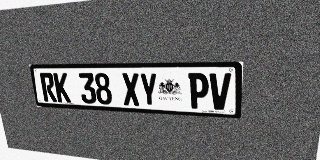3: (78, 73, 97, 104)
8: (94, 73, 112, 105)
K: (53, 73, 71, 103)
P: (188, 73, 209, 109)
R: (39, 73, 57, 102)
V: (209, 73, 231, 110)
X: (121, 73, 140, 106)
Y: (139, 73, 158, 107)
